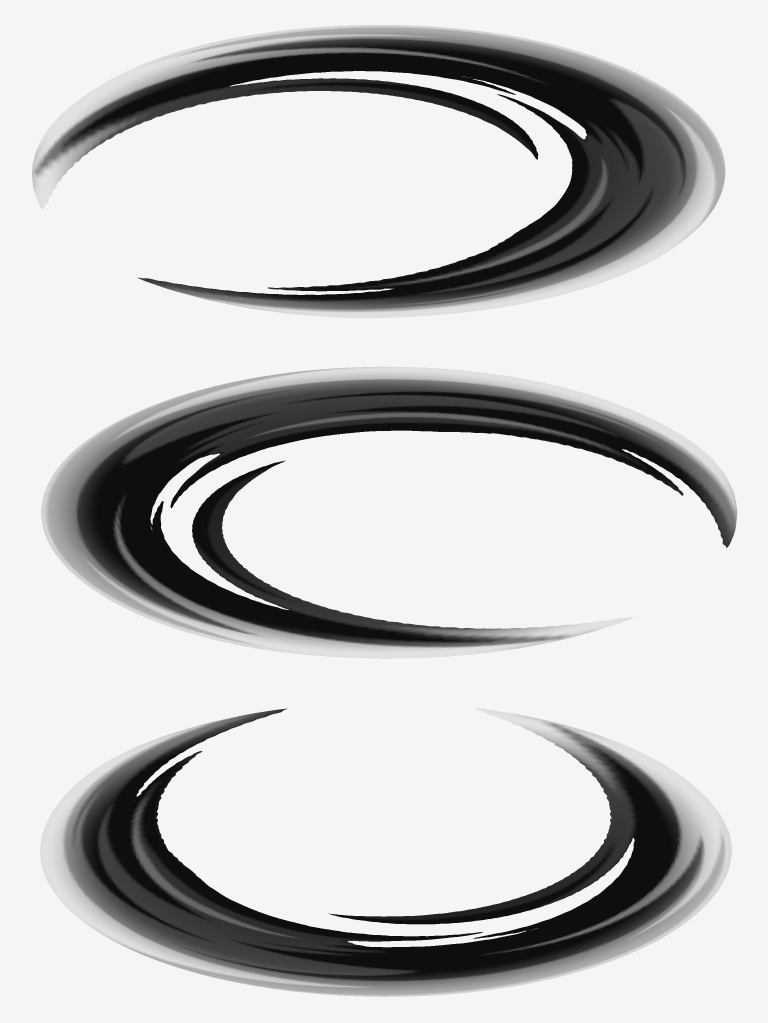
The model's file is eff_Disc01.fbx.
The picture shows the model from 3 angles, top to bottom: view 1: azimuth 30°, elevation 25°; view 2: azimuth 150°, elevation 25°; view 3: azimuth 270°, elevation 25°; orthographic projection.
Visible parts, largest first — view 1: eff_Disc01_rear_msh, eff_Disc01_front_msh; view 2: eff_Disc01_rear_msh, eff_Disc01_front_msh; view 3: eff_Disc01_rear_msh, eff_Disc01_front_msh.
Boxes of the visible parts, left/top/right/bottom form: eff_Disc01_rear_msh: left=138, top=98, right=725, bottom=317; eff_Disc01_front_msh: left=32, top=25, right=679, bottom=208; eff_Disc01_rear_msh: left=88, top=366, right=737, bottom=547; eff_Disc01_front_msh: left=41, top=439, right=633, bottom=658; eff_Disc01_rear_msh: left=40, top=708, right=383, bottom=996; eff_Disc01_front_msh: left=384, top=708, right=731, bottom=996.
Bounding box in the file's own units: 9 × 4.77e-07 × 9.
